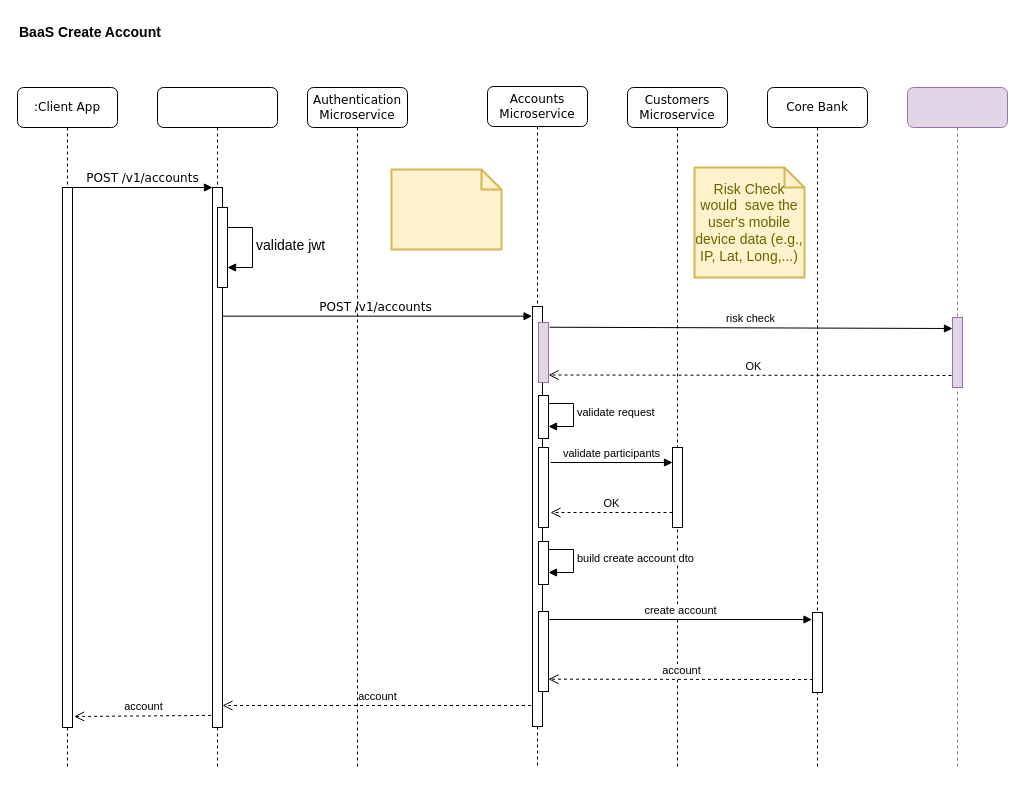
The diagram is 1025 pixels wide and 785 high, and some of its shapes have lost their labels. Here are the shapes that lost their labels. From the top down, the box of each, then its label:
(390, 168, 502, 250): Need to add the concept of a client products
(156, 86, 278, 768): API Gateway
(906, 86, 1008, 768): Risk & Fraud Management
